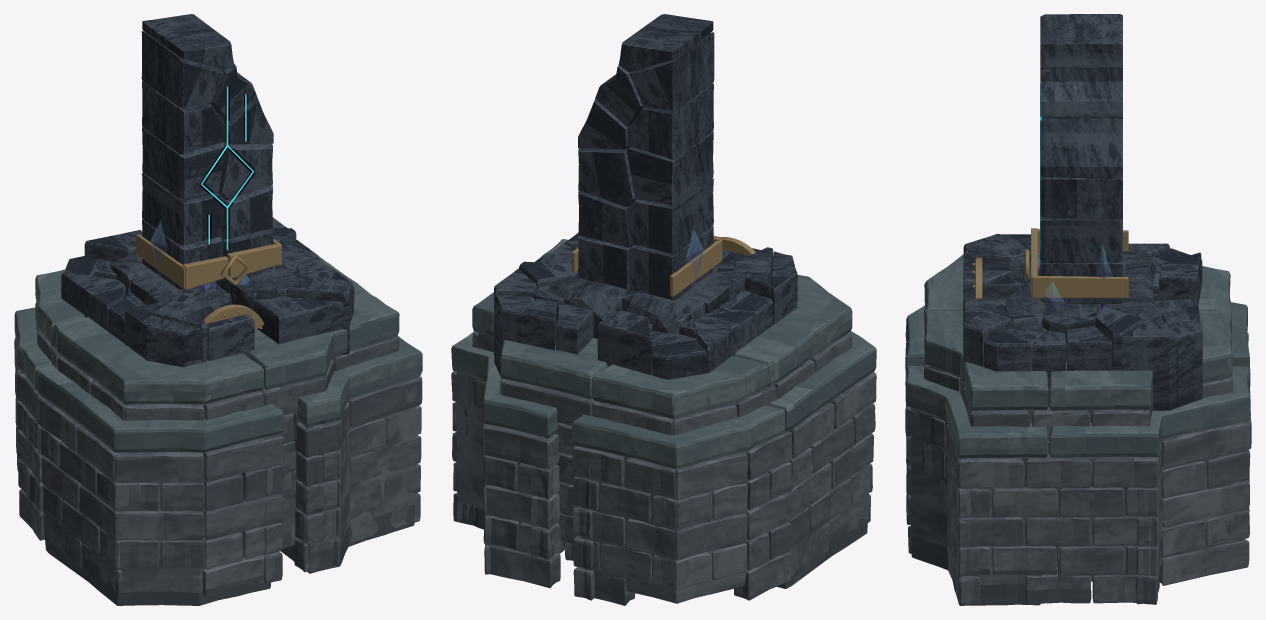
Rendered from chapter2_props.glb.
The picture shows the model from 3 angles, left to right: view 1: azimuth 30°, elevation 25°; view 2: azimuth 150°, elevation 25°; view 3: azimuth 270°, elevation 25°; orthographic projection. The views are drawn at different scales.
Parts seen in each view (by area): view 1: void_fissure__chapter2_side, rune_pillar__ch2_weathered_slate, void_fissure__ch2_weathered_slate, void_fissure__chapter2_build, crystal_cluster__chapter2_build, rune_pillar__chapter2_build, rune_pillar__chapter2_side, crystal_cluster__chapter2_side, rune_pillar__ch2_antiqued_brass, rune_pillar__ch2_teal_inset_rune, crystal_cluster, void_fissure__ch2_antiqued_brass; view 2: void_fissure__chapter2_side, rune_pillar__ch2_weathered_slate, void_fissure__ch2_weathered_slate, void_fissure__chapter2_build, crystal_cluster__chapter2_build, rune_pillar__chapter2_build, rune_pillar__chapter2_side, crystal_cluster__chapter2_side, rune_pillar__ch2_antiqued_brass; view 3: void_fissure__chapter2_side, rune_pillar__ch2_weathered_slate, void_fissure__ch2_weathered_slate, void_fissure__chapter2_build, crystal_cluster__chapter2_build, rune_pillar__chapter2_build, rune_pillar__ch2_antiqued_brass, rune_pillar__chapter2_side, crystal_cluster__chapter2_side, crystal_cluster.
Part boxes in pixels (x1,y1,x2,y2): void_fissure__chapter2_side: [14, 338, 422, 605]; rune_pillar__ch2_weathered_slate: [110, 14, 300, 310]; void_fissure__ch2_weathered_slate: [61, 217, 354, 367]; void_fissure__chapter2_build: [14, 307, 422, 452]; crystal_cluster__chapter2_build: [35, 256, 399, 404]; rune_pillar__chapter2_build: [35, 247, 399, 404]; rune_pillar__chapter2_side: [35, 302, 398, 543]; crystal_cluster__chapter2_side: [35, 304, 399, 548]; rune_pillar__ch2_antiqued_brass: [136, 234, 281, 289]; rune_pillar__ch2_teal_inset_rune: [201, 86, 254, 249]; crystal_cluster: [150, 221, 274, 301]; void_fissure__ch2_antiqued_brass: [203, 304, 264, 330]; void_fissure__chapter2_side: [451, 371, 876, 605]; rune_pillar__ch2_weathered_slate: [548, 14, 745, 338]; void_fissure__ch2_weathered_slate: [494, 233, 797, 379]; void_fissure__chapter2_build: [451, 331, 876, 469]; crystal_cluster__chapter2_build: [472, 239, 852, 419]; rune_pillar__chapter2_build: [473, 242, 850, 419]; rune_pillar__chapter2_side: [472, 333, 852, 543]; crystal_cluster__chapter2_side: [473, 332, 850, 541]; rune_pillar__ch2_antiqued_brass: [572, 236, 722, 296]; void_fissure__chapter2_side: [905, 332, 1251, 605]; rune_pillar__ch2_weathered_slate: [1005, 14, 1155, 327]; void_fissure__ch2_weathered_slate: [963, 234, 1202, 410]; void_fissure__chapter2_build: [905, 302, 1250, 458]; crystal_cluster__chapter2_build: [924, 260, 1232, 410]; rune_pillar__chapter2_build: [924, 254, 1232, 410]; rune_pillar__ch2_antiqued_brass: [1024, 228, 1128, 297]; rune_pillar__chapter2_side: [924, 305, 1232, 451]; crystal_cluster__chapter2_side: [924, 299, 1232, 453]; crystal_cluster: [1029, 244, 1111, 308].
Bounding box in the file's own units: 1.32 × 2.02 × 1.26.
Materials: 9 (4 with a texture image).
